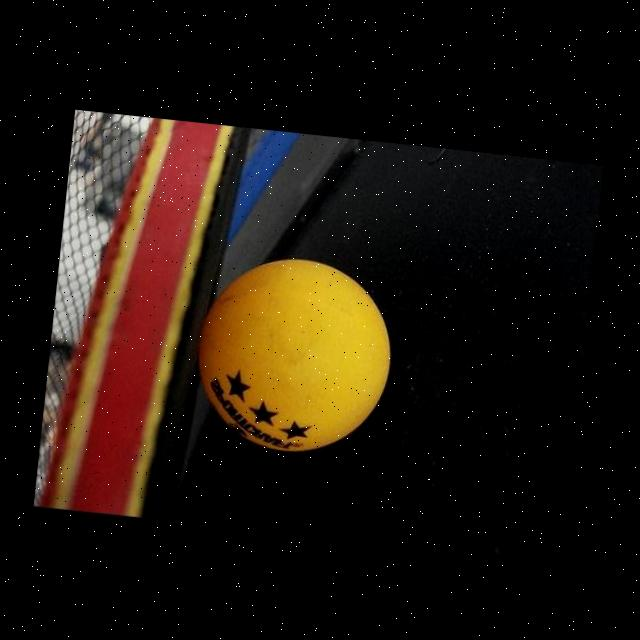ping-pong-ball: (184, 246, 403, 467)
